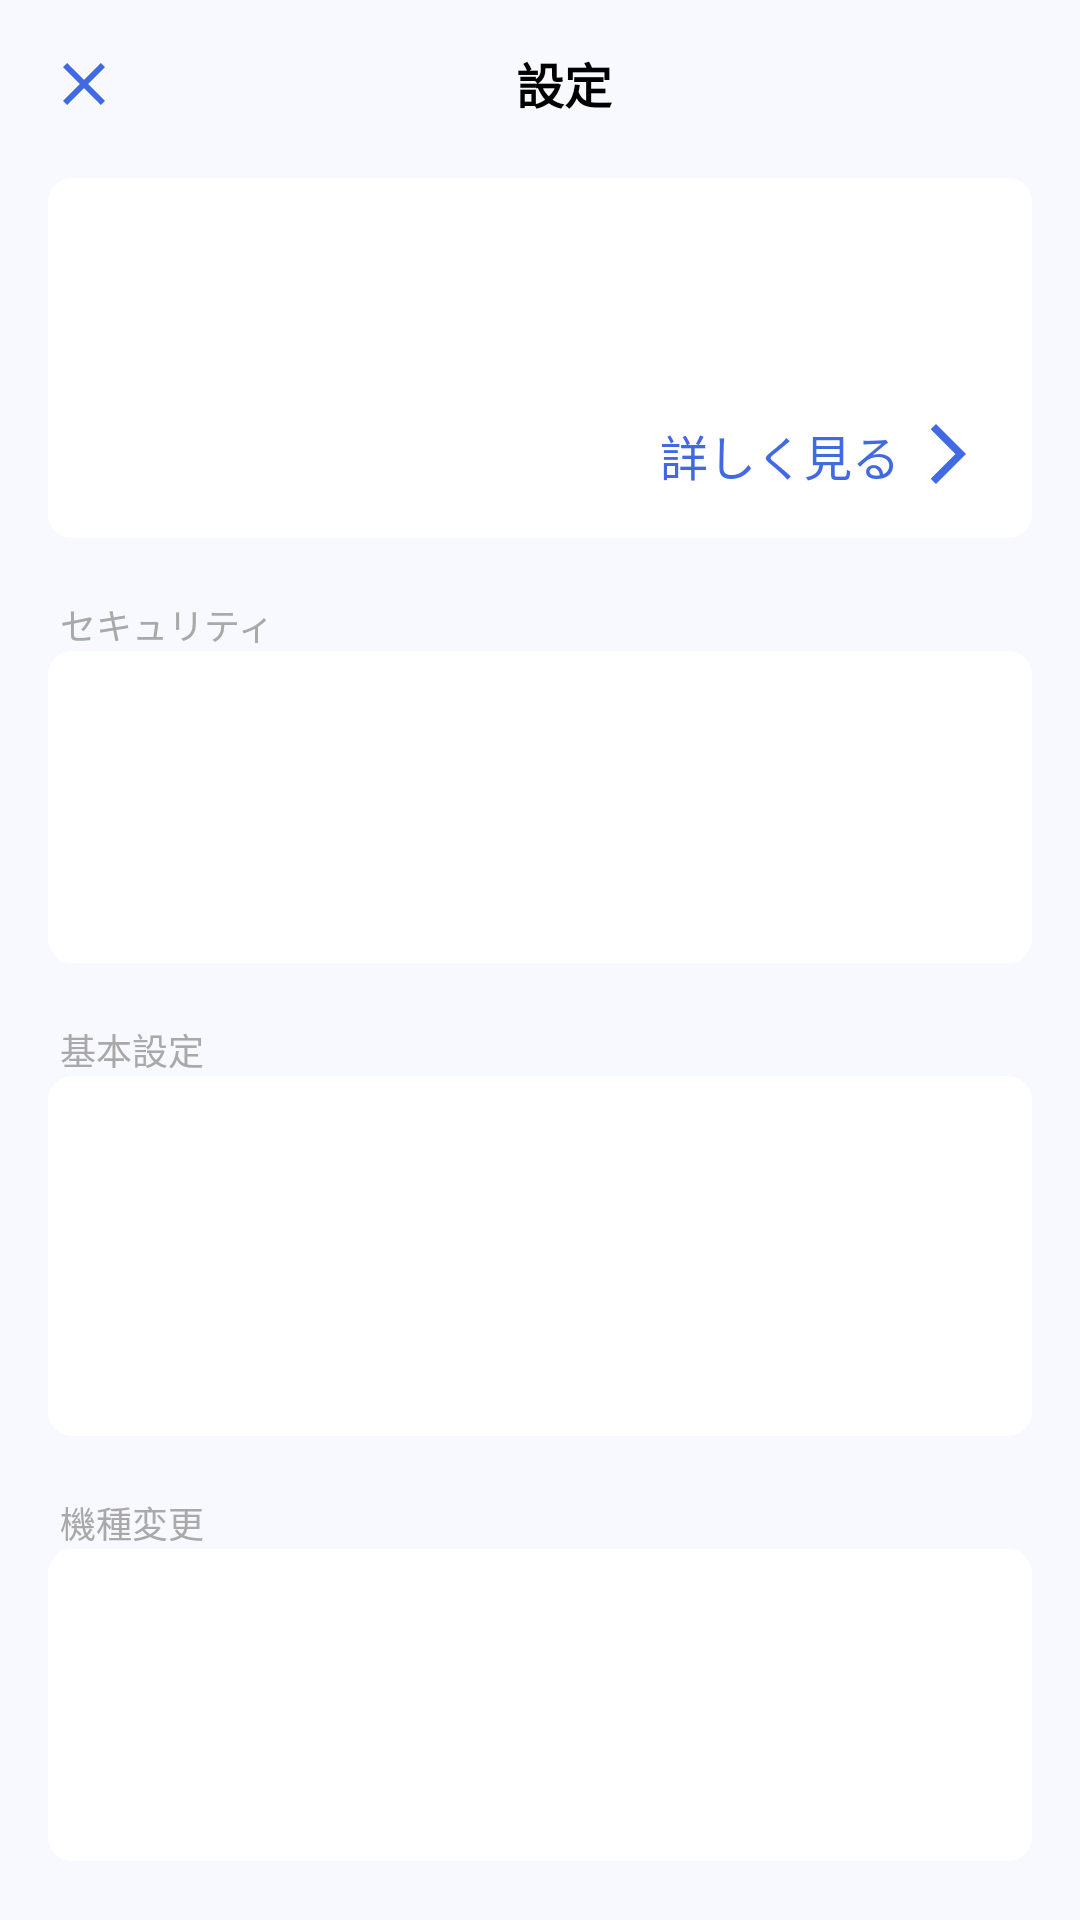

Where icons sit on this 1080 x 1920 app screen, as (x1, y1, x2, y2):
arrow forward ver: (931, 424, 966, 484)
close: (63, 63, 105, 105)
